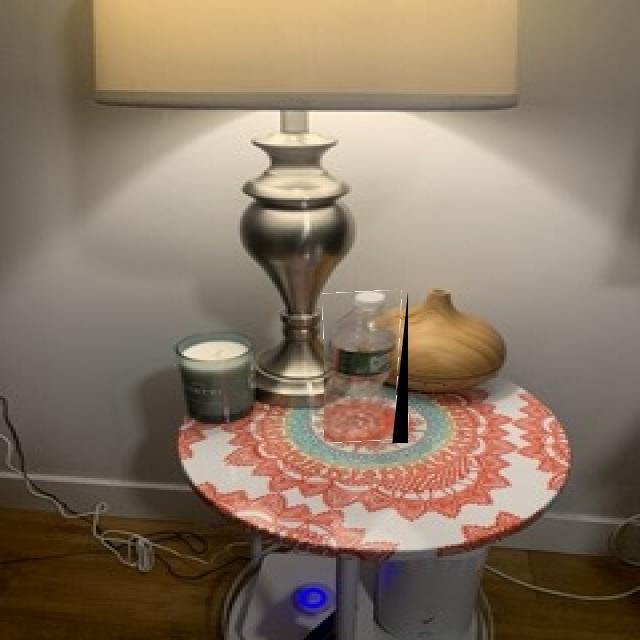water_bottle: (324, 291, 408, 443)
